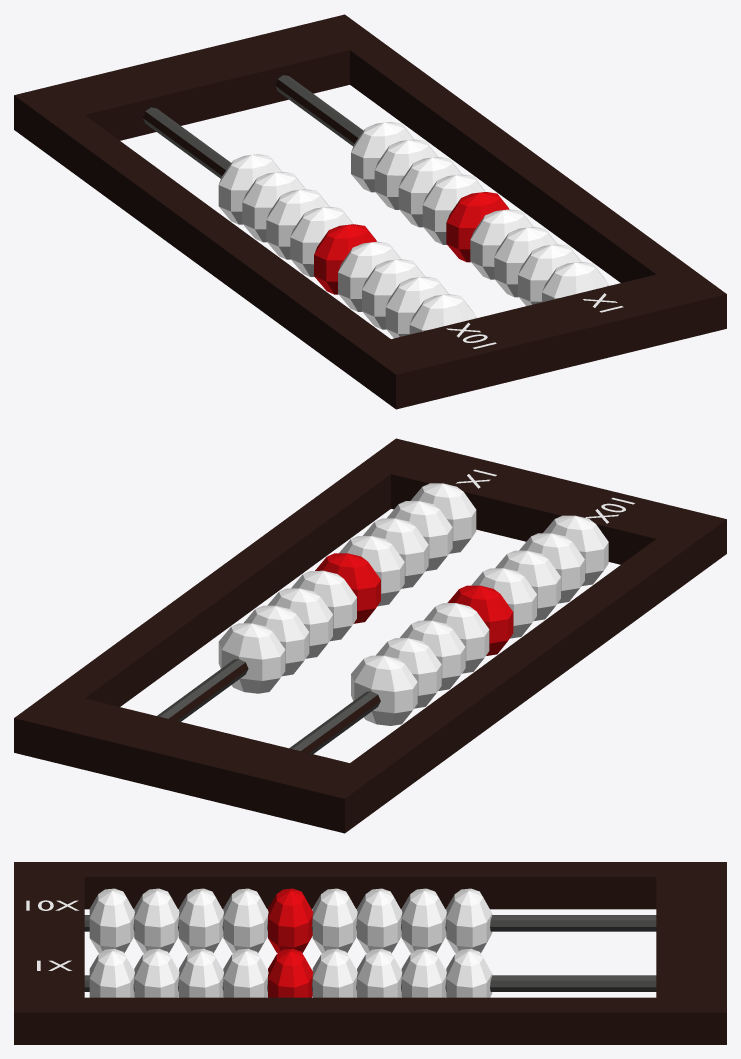
File: liczydlo.fbx
3 views of the same model, one above another, from view 1: azimuth 30°, elevation 25°; view 2: azimuth 150°, elevation 25°; view 3: azimuth 270°, elevation 25° (orthographic). The views are drawn at different scales.
Visible parts, largest first — view 1: LICZYDLO, KORALIK10, KORALIK20, KORALIK4, KORALIK6, KORALIK30, KORALIK5, KORALIK2, KORALIK3, KORALIK40, KORALIK7, KORALIK70 (+7 smaller); view 2: LICZYDLO, KORALIK1, KORALIK10, KORALIK2, KORALIK40, KORALIK9, KORALIK20, KORALIK30, KORALIK7, KORALIK8, KORALIK50, KORALIK90 (+7 smaller); view 3: LICZYDLO, KORALIK10, KORALIK90, KORALIK20, KORALIK60, KORALIK40, KORALIK80, KORALIK30, KORALIK50, KORALIK70, KORALIK9, KORALIK1 (+7 smaller).
Boxes of the visible parts, box(x1,y1,x2,y2) form: LICZYDLO: box(14, 14, 726, 409); KORALIK10: box(218, 154, 281, 224); KORALIK20: box(242, 171, 305, 242); KORALIK4: box(422, 174, 485, 244); KORALIK6: box(470, 209, 533, 279); KORALIK30: box(266, 189, 329, 259); KORALIK5: box(446, 192, 509, 262); KORALIK2: box(374, 139, 437, 209); KORALIK3: box(398, 157, 461, 227); KORALIK40: box(290, 206, 352, 276); KORALIK7: box(494, 227, 556, 297); KORALIK70: box(362, 259, 424, 329); LICZYDLO: box(14, 438, 726, 833); KORALIK1: box(218, 623, 285, 693); KORALIK10: box(351, 655, 417, 725); KORALIK2: box(243, 605, 309, 676); KORALIK40: box(423, 603, 489, 673); KORALIK9: box(410, 483, 476, 553); KORALIK20: box(376, 638, 441, 708); KORALIK30: box(400, 620, 465, 690); KORALIK7: box(363, 518, 428, 588); KORALIK8: box(387, 501, 452, 571); KORALIK50: box(447, 585, 513, 655); KORALIK90: box(543, 515, 608, 586); LICZYDLO: box(14, 862, 726, 1044); KORALIK10: box(446, 888, 492, 953); KORALIK90: box(89, 888, 134, 953); KORALIK20: box(401, 888, 446, 953); KORALIK60: box(223, 888, 268, 953); KORALIK40: box(312, 888, 357, 953); KORALIK80: box(134, 888, 179, 953); KORALIK30: box(357, 888, 402, 953); KORALIK50: box(268, 888, 313, 953); KORALIK70: box(179, 888, 223, 953); KORALIK9: box(89, 948, 134, 997); KORALIK1: box(446, 949, 492, 997).
Bounding box in the file's own units: 200 × 40 × 400.
